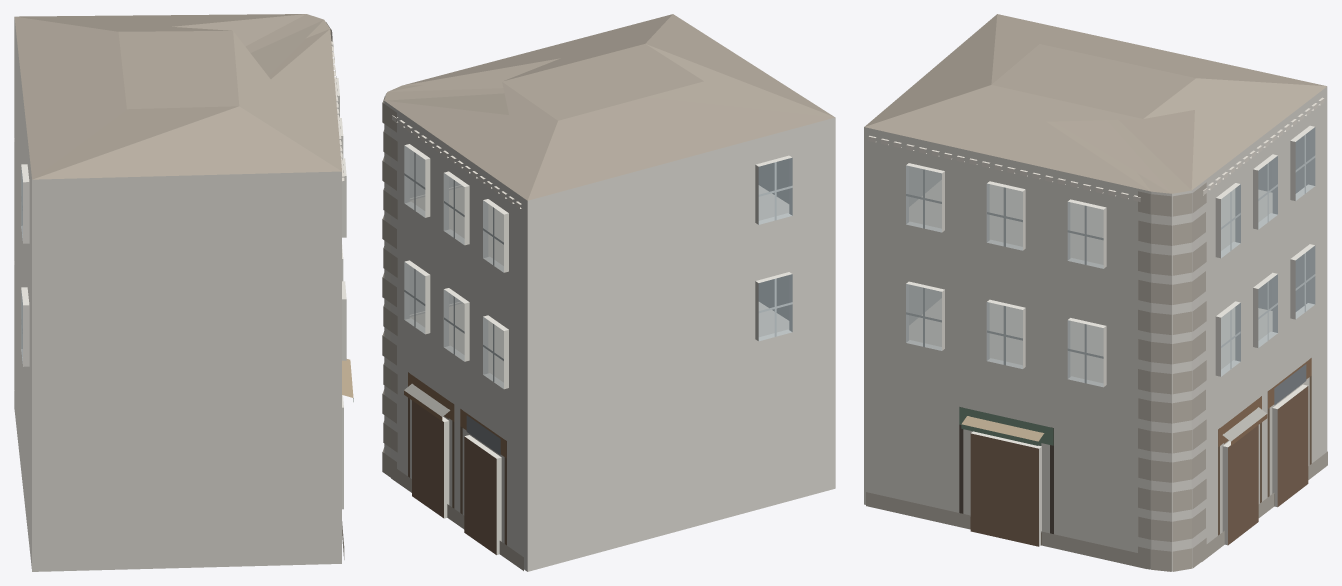
The model's file is N-52-54-E2.corner_mass.glb.
3 renders of one model, left to right at view 1: azimuth 30°, elevation 25°; view 2: azimuth 150°, elevation 25°; view 3: azimuth 270°, elevation 25°, orthographic. The views are drawn at different scales.
Parts seen in each view (by area): view 1: N-52-54-E2.corner_mass; view 2: N-52-54-E2.corner_mass; view 3: N-52-54-E2.corner_mass.
Boxes of the visible parts, x1,y1,x2,y2 form: N-52-54-E2.corner_mass: [14, 14, 353, 571]; N-52-54-E2.corner_mass: [382, 14, 835, 571]; N-52-54-E2.corner_mass: [864, 14, 1327, 571].
Bounding box in the file's own units: 10.46 × 10.87 × 11.35.
